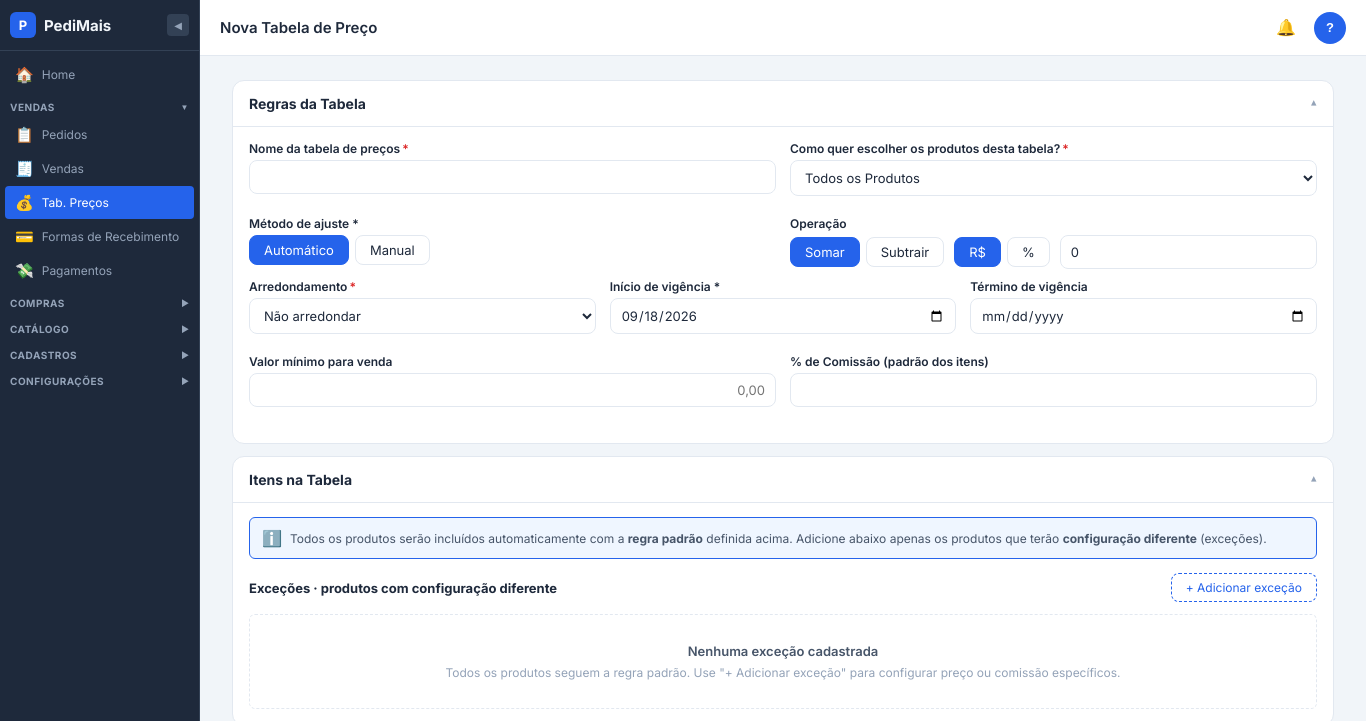
Test: PriceTableFormView › narrows the grid to pending rows when the Pendente filter is picked
Step 1. Select "Selecionar os Produtos" in the dropdown with test id "modo-selecao" → (1054, 178), box [790, 160, 1317, 196]
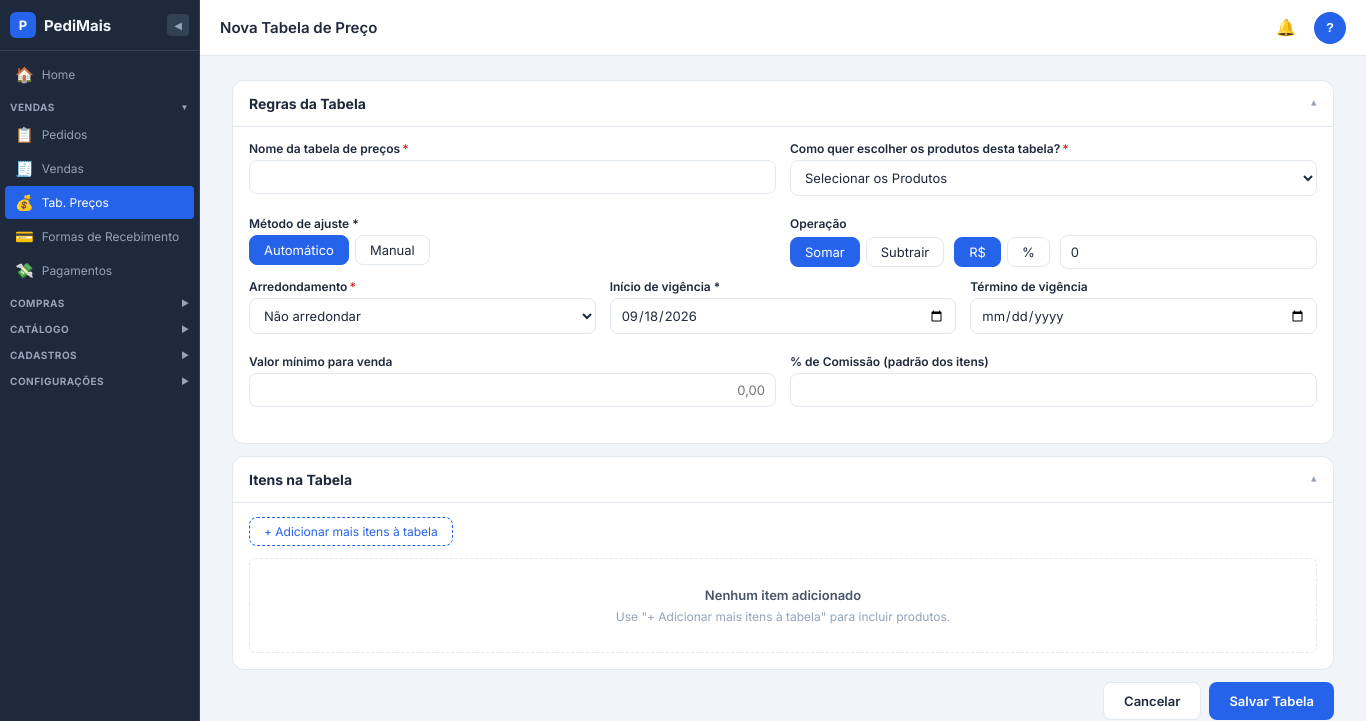
Step 2. Click the button with test id "adicionar-itens" → (351, 532), box [249, 517, 453, 546]
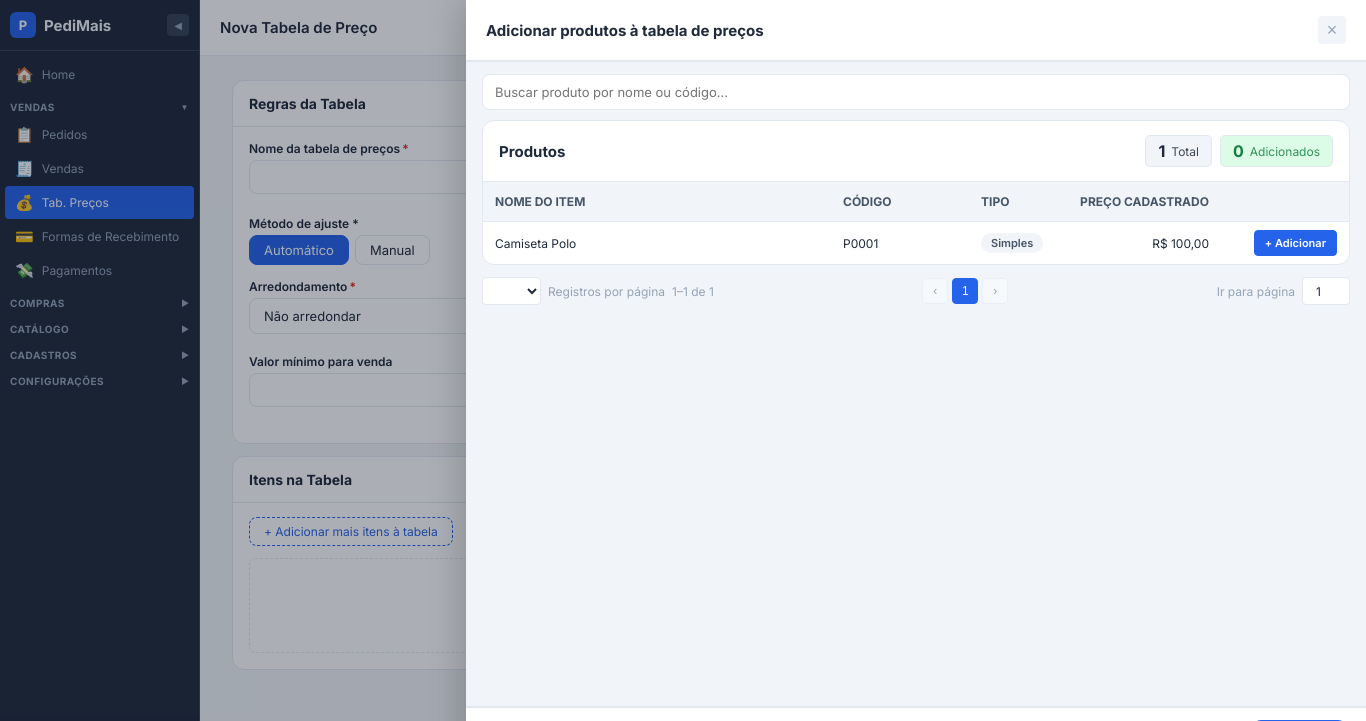
Step 3. Click the button "+ Adicionar" → (1295, 243), box [1254, 230, 1337, 256]
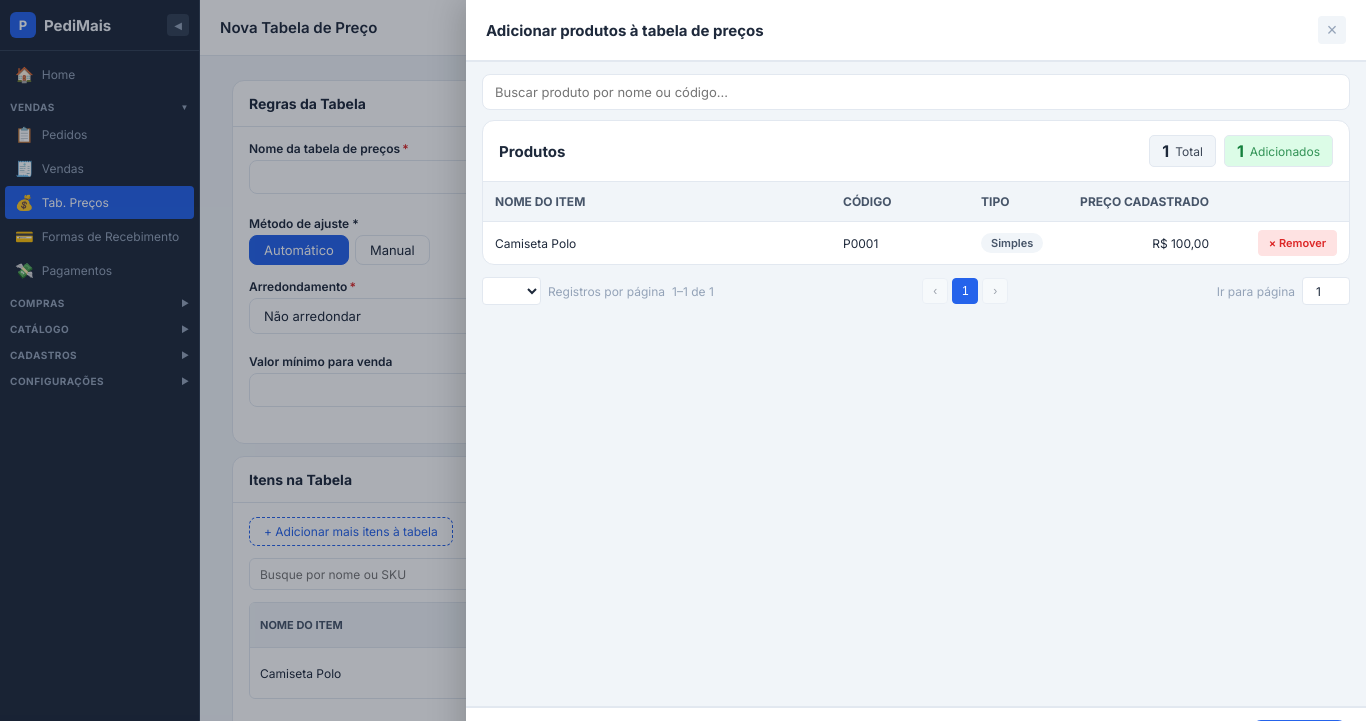
Step 4. Click the button with test id "slide-over-close" → (1332, 30), box [1318, 16, 1346, 44]
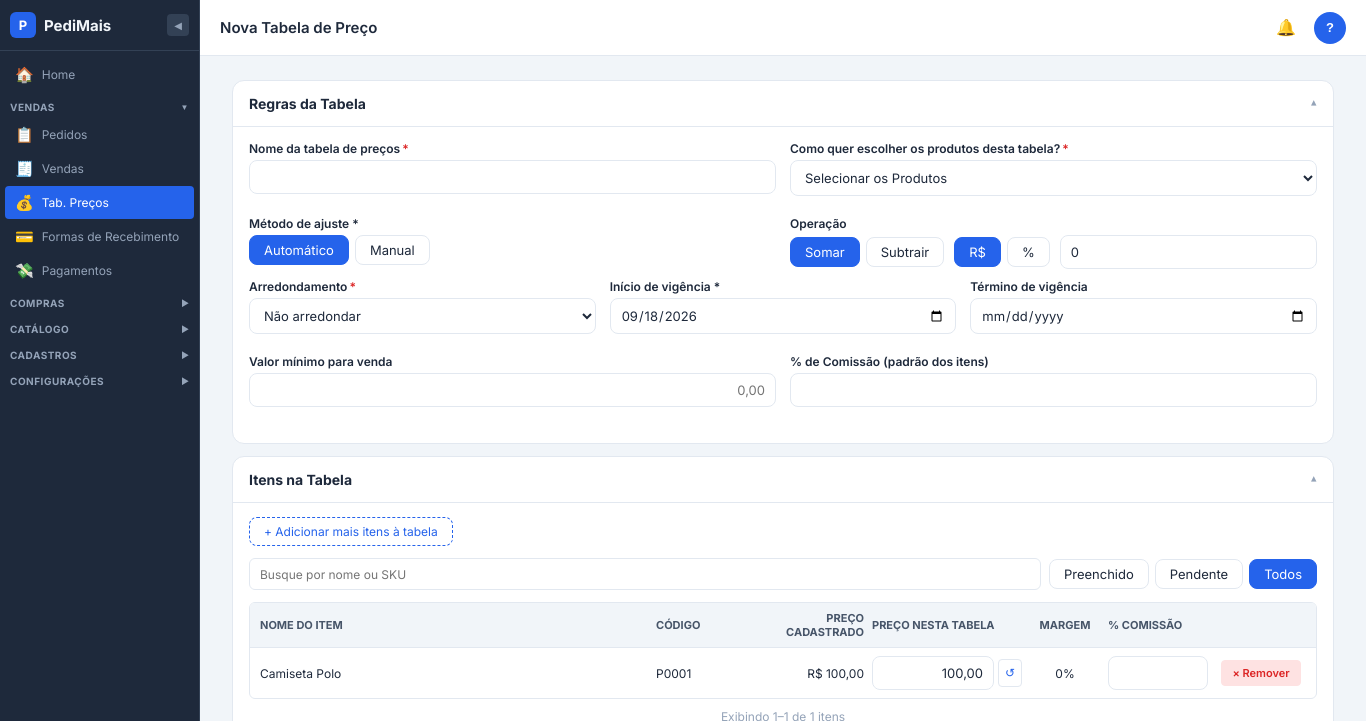
Step 5. Click the button with test id "filtro-preenchimento-PENDENTE" → (1199, 574), box [1155, 559, 1243, 589]
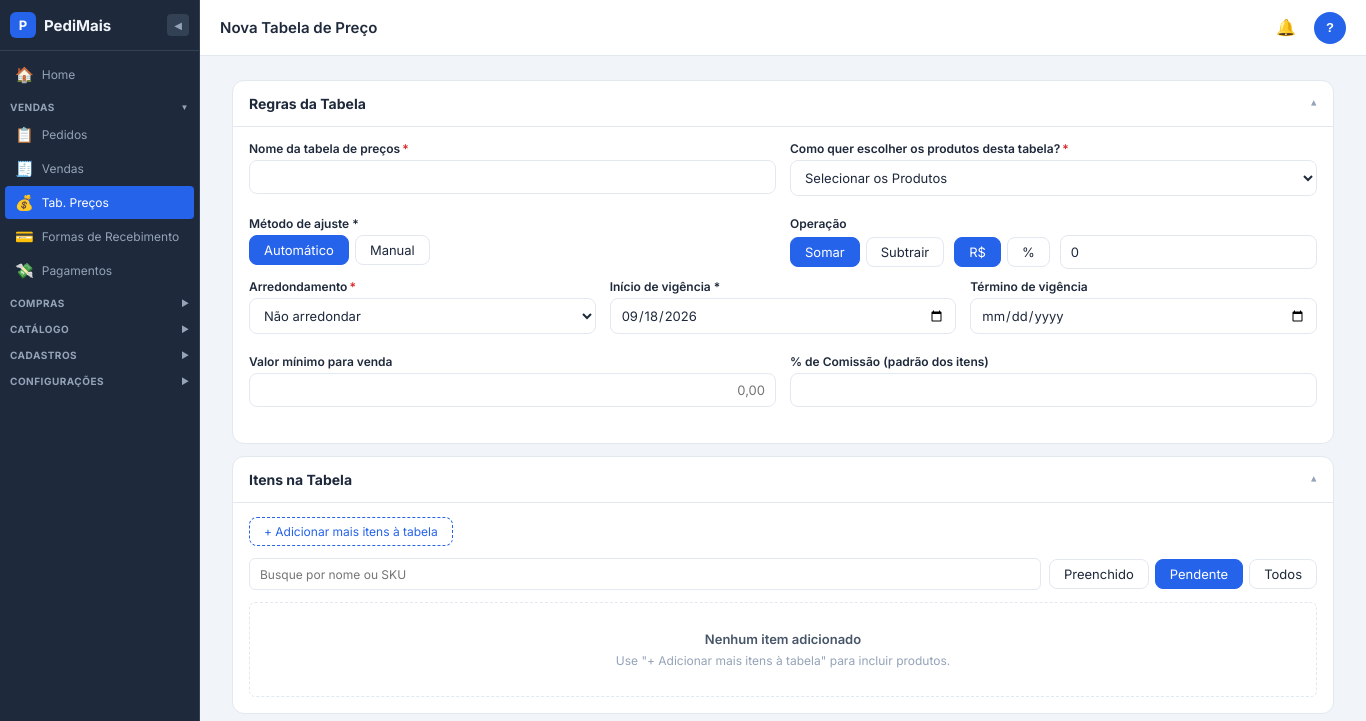
Step 6. Click the button with test id "filtro-preenchimento-PREENCHIDO" → (1099, 574), box [1049, 559, 1149, 589]
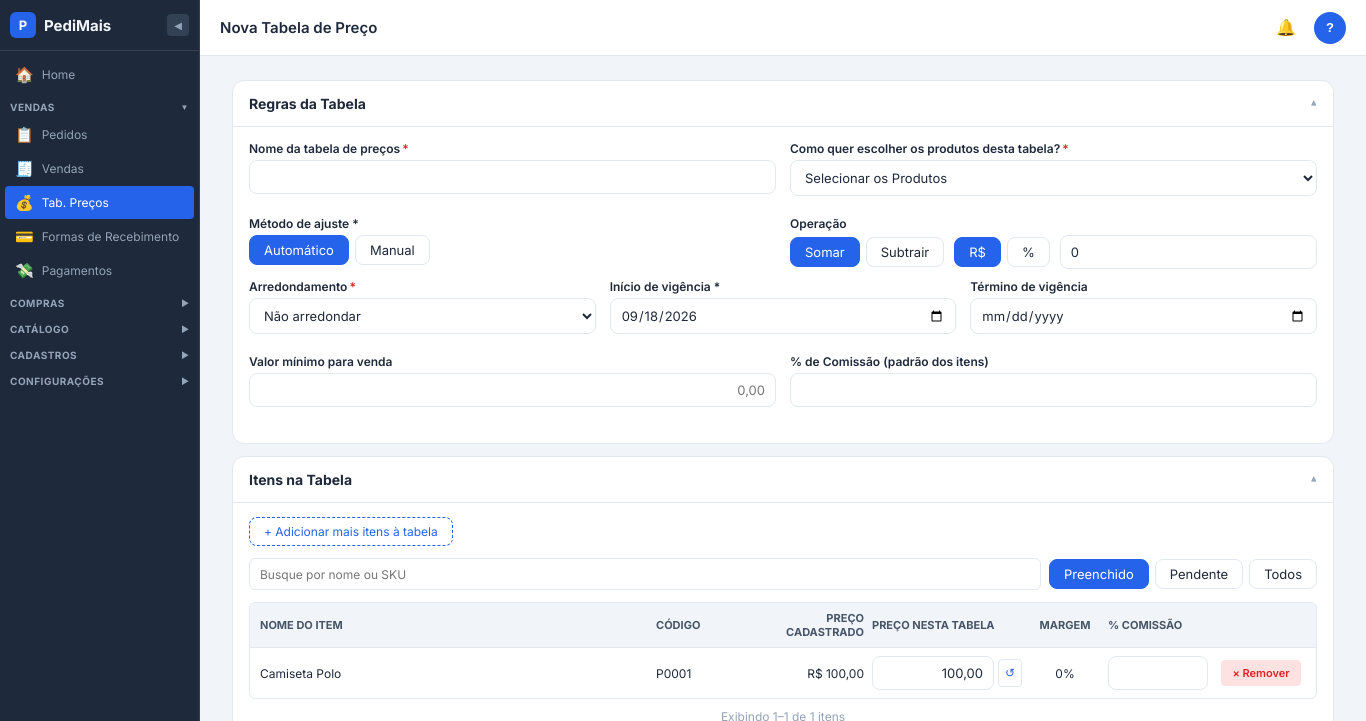
Expected: the field with test id "item-preco-0" is shown, [883, 665, 983, 681]
